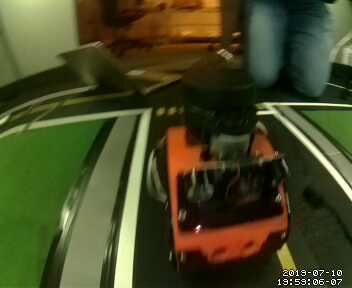pheeno: (155, 69, 292, 265)
